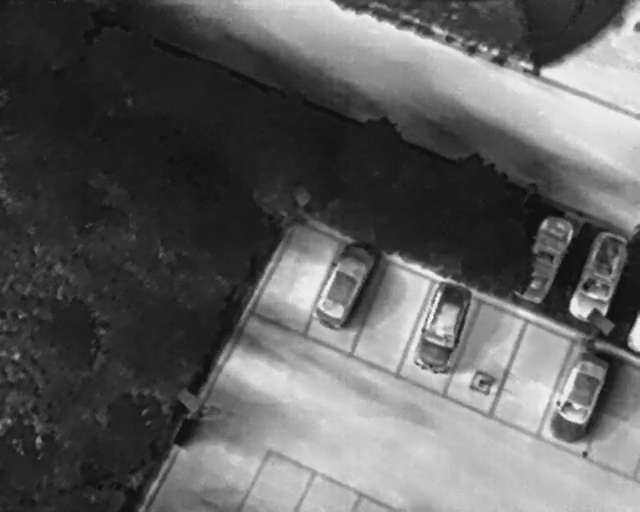Car: (542, 346, 617, 451), (564, 223, 638, 327), (307, 234, 382, 336), (409, 278, 476, 379), (512, 210, 579, 307)
